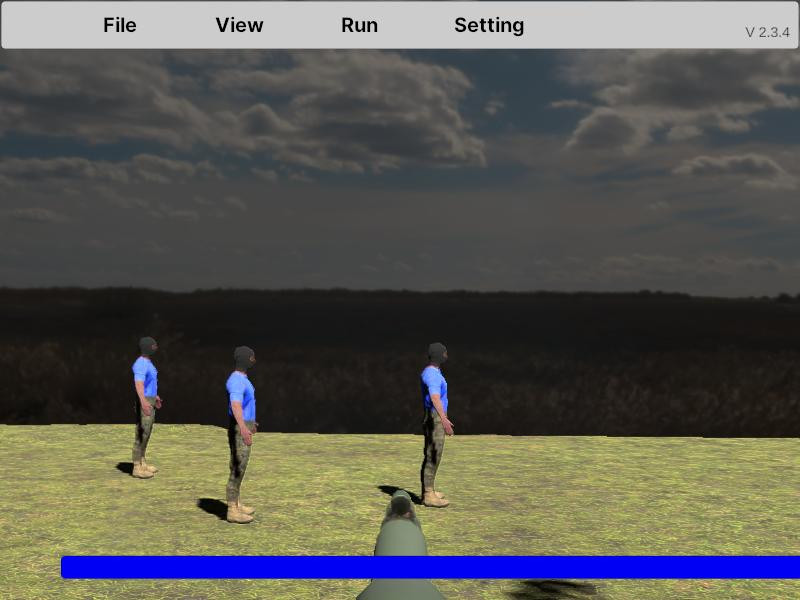Human: (420, 340, 455, 508), (226, 343, 258, 524), (132, 335, 162, 479)
